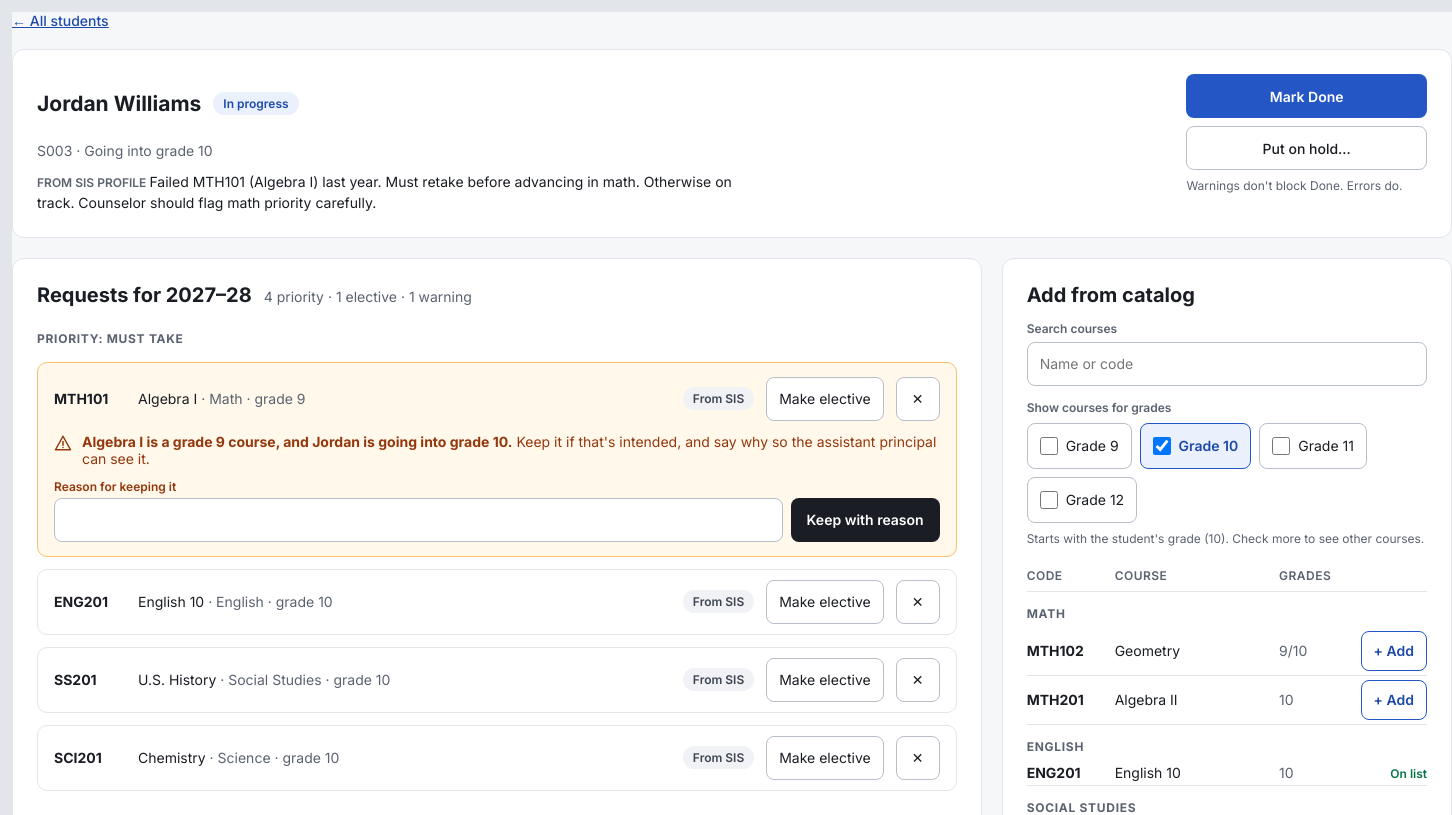
Keep with reason with an empty reason asks for one and doesn't save
Click the button "Keep with reason" at (865, 520), box [791, 498, 940, 542]
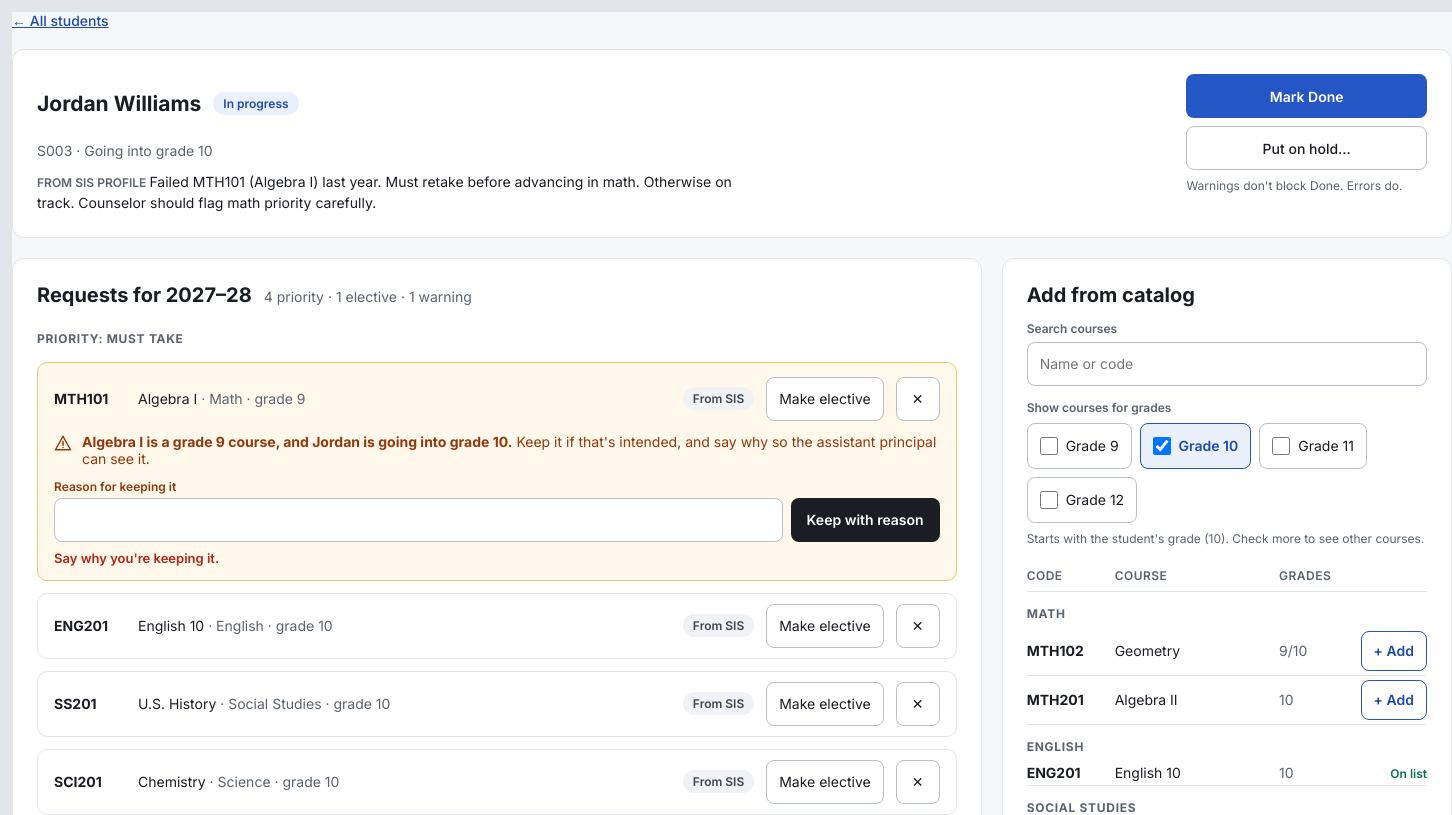
Now the message reads "Say why you're keeping it.", box [54, 550, 219, 566]
